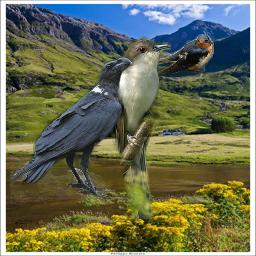Crow: (10, 55, 135, 199)
Cuckoo: (109, 33, 171, 219)
Swallow: (138, 34, 214, 76)
